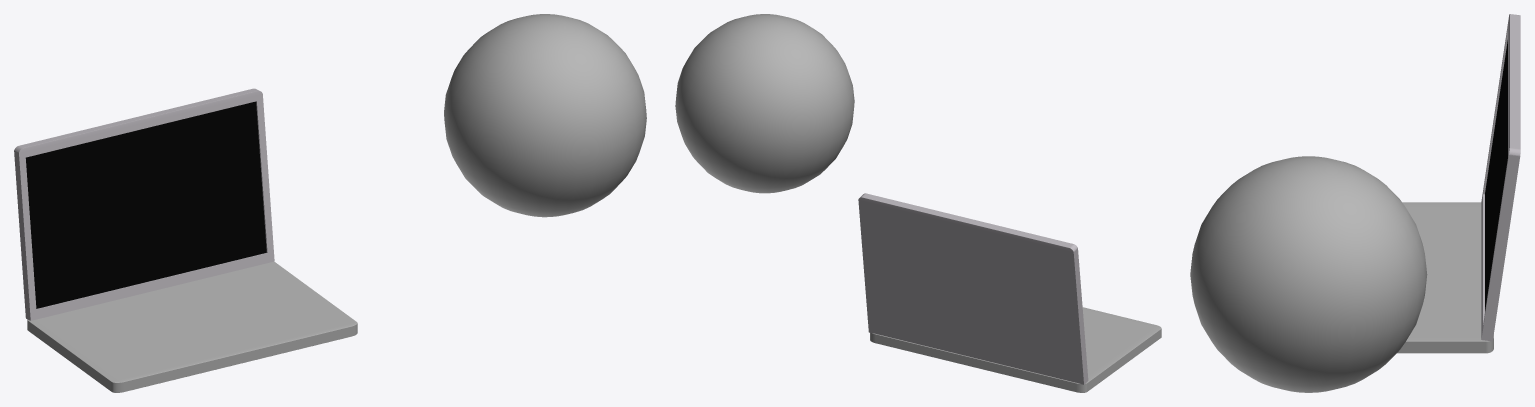
The model's file is computers.glb.
The picture shows the model from 3 angles, left to right: view 1: azimuth 30°, elevation 25°; view 2: azimuth 150°, elevation 25°; view 3: azimuth 270°, elevation 25°; orthographic projection. The views are drawn at different scales.
Parts seen in each view (by area): view 1: monitor, Sphere, keybord, display; view 2: display, Sphere, keybord; view 3: Sphere, keybord, display, monitor.
Boxes of the visible parts, box(x1,y1,x2,y2) form: monitor: box(25, 101, 266, 308); Sphere: box(444, 14, 646, 217); keybord: box(27, 261, 357, 392); display: box(14, 88, 274, 320); display: box(858, 193, 1088, 384); Sphere: box(675, 14, 854, 193); keybord: box(870, 307, 1161, 392); Sphere: box(1190, 156, 1427, 392); keybord: box(1397, 202, 1493, 353); display: box(1481, 14, 1520, 341); monitor: box(1485, 40, 1507, 310).
Size of the model in its own units: 6.01 by 2.77 by 2.79.
Materials: 4 (2 with a texture image).
